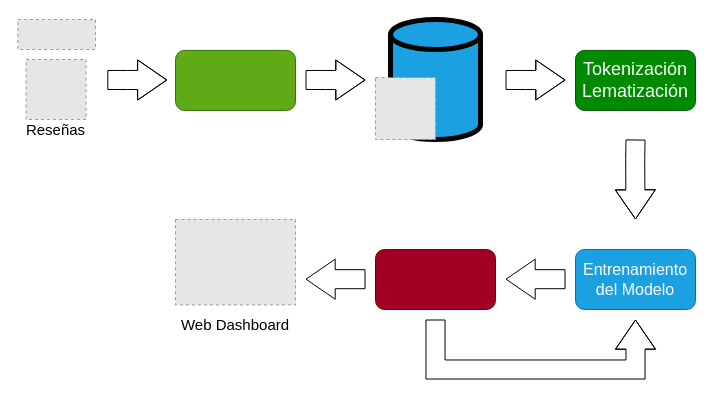
Some shapes in this 714 by 397 pixel diagram are drawn without their labels. Grey dashed boxes stand in for pictures. Each missing label, with the centre of its shape:
Evaluación del Modelo: the point at 435,279
Limpieza de Datos: the point at 235,79
